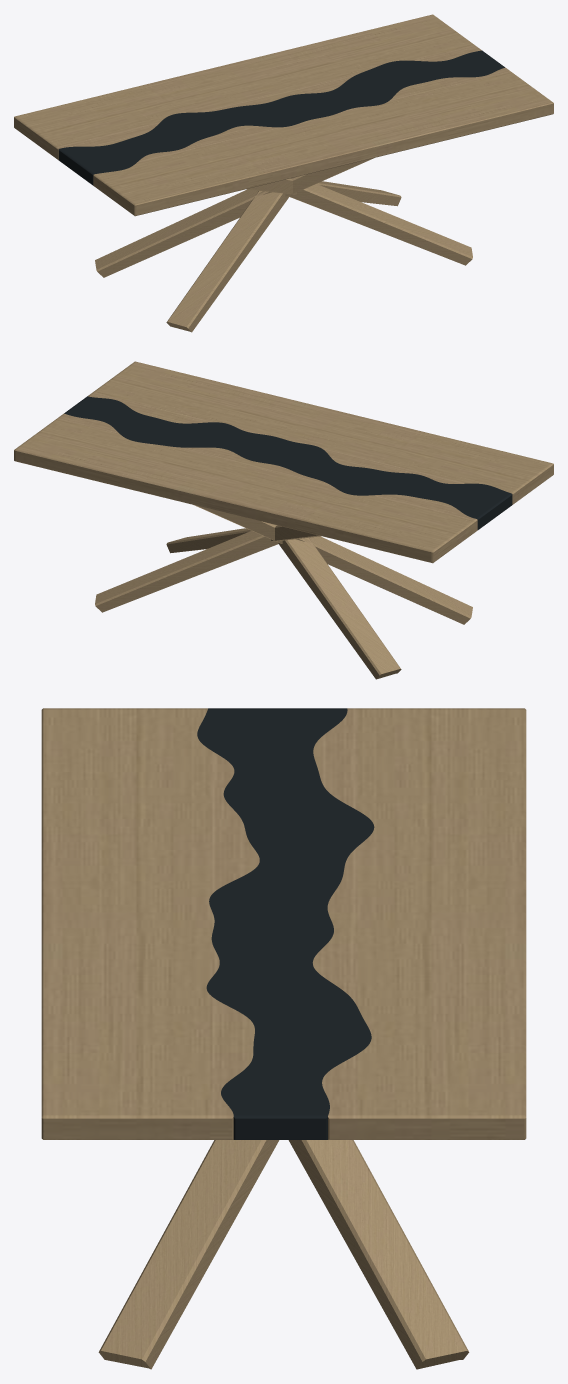
File: rectangular-ash-epoxy-black.glb
3 views of the same model, one above another, from view 1: azimuth 30°, elevation 25°; view 2: azimuth 150°, elevation 25°; view 3: azimuth 270°, elevation 25° (orthographic). The views are drawn at different scales.
Parts seen in each view (by area): view 1: Wood_Rectangular_EpoxyFar, Wood_Rectangular_EpoxyNear, Base_target, Resin_Rectangular; view 2: Wood_Rectangular_EpoxyNear, Wood_Rectangular_EpoxyFar, Base_target, Resin_Rectangular; view 3: Wood_Rectangular_EpoxyNear, Wood_Rectangular_EpoxyFar, Resin_Rectangular, Base_target.
Part boxes in pixels (x1=…): Wood_Rectangular_EpoxyFar: x1=93, y1=67, x2=553, y2=216; Wood_Rectangular_EpoxyNear: x1=14, y1=14, x2=481, y2=159; Base_target: x1=95, y1=158, x2=472, y2=332; Resin_Rectangular: x1=58, y1=50, x2=504, y2=185; Wood_Rectangular_EpoxyNear: x1=14, y1=413, x2=477, y2=563; Wood_Rectangular_EpoxyFar: x1=88, y1=361, x2=553, y2=504; Base_target: x1=95, y1=505, x2=472, y2=679; Resin_Rectangular: x1=64, y1=396, x2=512, y2=529; Wood_Rectangular_EpoxyNear: x1=312, y1=708, x2=526, y2=1139; Wood_Rectangular_EpoxyFar: x1=41, y1=708, x2=259, y2=1139; Resin_Rectangular: x1=197, y1=708, x2=374, y2=1139; Base_target: x1=98, y1=1140, x2=469, y2=1369.
Size of the model in its own units: 2.13 by 0.762 by 1.07.
Materials: 2 (1 with a texture image).
